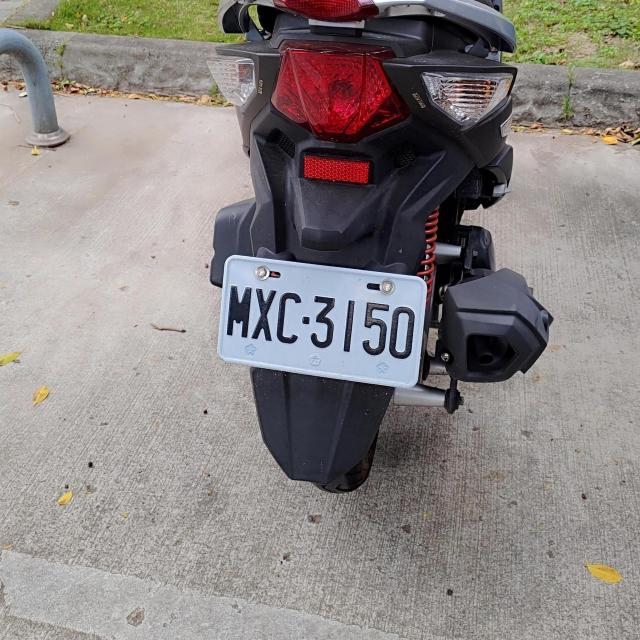W: (214, 256, 428, 385)
